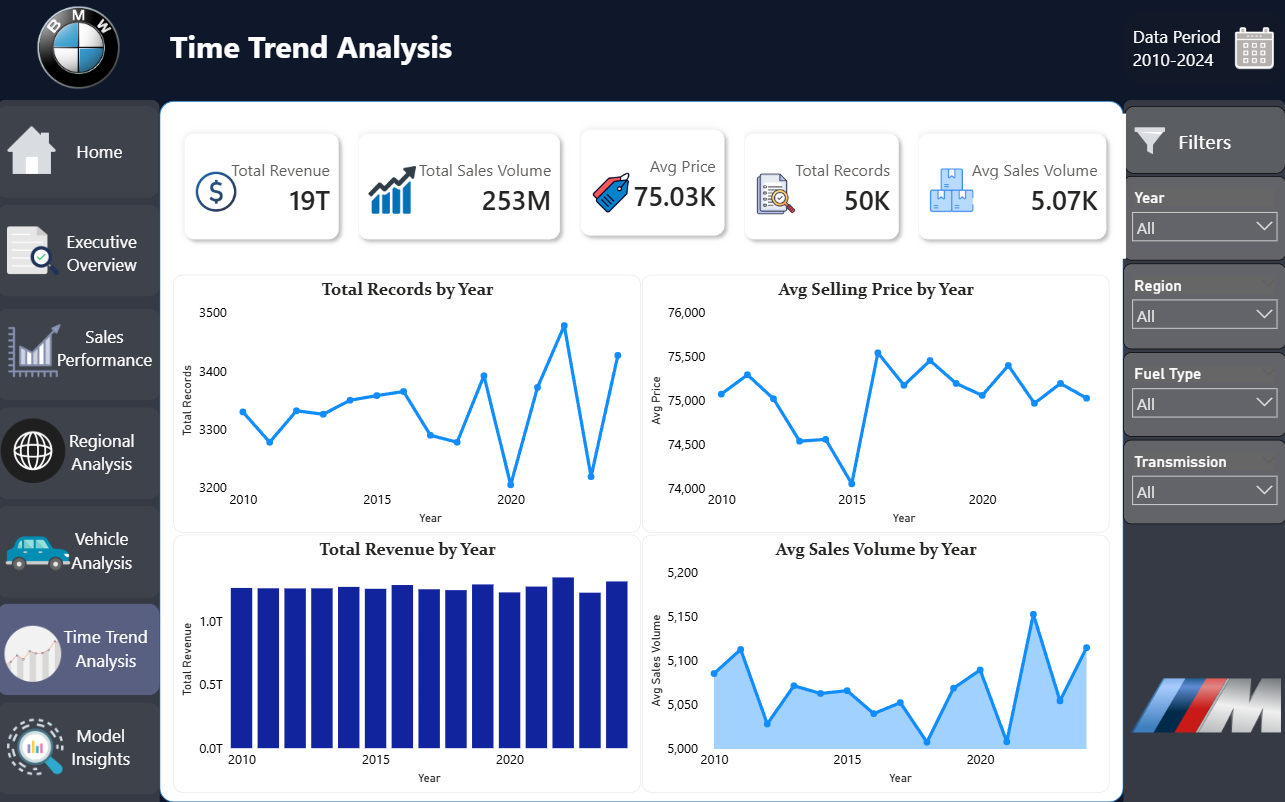

What the dashboard file says about the page in this screenshot:
{"tool":"powerbi","page":{"name":"Time Trend Analysis","canvas":[1600,1000],"ordinal":5},"visuals":[{"type":"shape","box":[1398,18,200,92],"z":0,"group":"g14"},{"type":"shape","box":[1398,128,202,872],"z":0},{"type":"shape","box":[0,258.8,202,114],"z":0,"group":"g7"},{"type":"shape","box":[-0.3,387.9,202,114],"z":0,"group":"g3"},{"type":"shape","box":[0,510,202,114],"z":0,"group":"g4"},{"type":"shape","box":[0,875.8,202,114],"z":0,"group":"g1"},{"type":"image","box":[1528,38,64,52],"z":1000,"group":"g14"},{"type":"shape","box":[202,130,1196,870],"z":1000},{"type":"actionButton","box":[76,510,108,109],"z":1000,"group":"g4"},{"type":"shape","box":[0,128,202,872],"z":2000},{"type":"image","box":[12.8,275.9,65,80],"z":2000,"group":"g7"},{"type":"image","box":[14.2,399,65,80],"z":2000,"group":"g3"},{"type":"image","box":[4.3,524.1,80,80],"z":2000,"group":"g4"},{"type":"image","box":[12.8,890.9,70,80],"z":2000,"group":"g1"},{"type":"actionButton","box":[76,262.8,108,108],"z":2500,"group":"g7"},{"type":"actionButton","box":[70.2,381,127,109],"z":2500,"group":"g3"},{"type":"actionButton","box":[70,875.8,118,110],"z":2500,"group":"g1"},{"type":"cardVisual","fields":{"Data":["fact_bmw_sales.Total Revenue"]},"box":[202.9,141,250,190],"z":3000,"group":"g13"},{"type":"lineChart","fields":{"Category":["fact_bmw_sales.Year"],"Y":["fact_bmw_sales.Total Records"]},"box":[218,346,580,320],"z":3000},{"type":"cardVisual","fields":{"Data":["fact_bmw_sales.Total Sales Volume"]},"box":[418.7,141,309.7,190],"z":4000,"group":"g12"},{"type":"clusteredColumnChart","fields":{"Category":["fact_bmw_sales.Year"],"Y":["fact_bmw_sales.Total Revenue"]},"box":[218,668,580,320],"z":4000},{"type":"cardVisual","fields":{"Data":["fact_bmw_sales.Avg Price"]},"box":[694.3,136.7,237.1,190],"z":5000,"group":"g11"},{"type":"lineChart","title":"Avg Selling Price by Year","fields":{"Category":["fact_bmw_sales.Year"],"Y":["fact_bmw_sales.Avg Price"]},"box":[800,346,580,320],"z":5000},{"type":"cardVisual","fields":{"Data":["fact_bmw_sales.Total Records"]},"box":[897.2,141,250,190],"z":6000,"group":"g10"},{"type":"areaChart","fields":{"Category":["fact_bmw_sales.Year"],"Y":["fact_bmw_sales.Avg Sales Volume"]},"box":[800,668,580,320],"z":6000},{"type":"image","box":[0,0,202,128],"z":7000},{"type":"cardVisual","fields":{"Data":["fact_bmw_sales.Avg Sales Volume"]},"box":[1113,141,292.7,190],"z":7000,"group":"g9"},{"type":"group","id":"g1","title":"Group 11","box":[0,875.8,202.9,113.2],"z":8000},{"type":"group","id":"g2","title":"Group 12","box":[0,754.4,202.9,113.2],"z":9000},{"type":"group","id":"g3","title":"Group 10","box":[-0.3,381,202,120.9],"z":10000},{"type":"group","id":"g4","title":"Group 14","box":[0,510,202,114],"z":11000},{"type":"group","id":"g5","title":"Group 13","box":[-0.8,136.6,202,114],"z":12000},{"type":"group","id":"g6","title":"Group 9","box":[0,632.2,202,114],"z":13000},{"type":"group","id":"g7","title":"Group 15","box":[0,258.8,202,114],"z":14000},{"type":"slicer","fields":{"Values":["fact_bmw_sales.Year"]},"box":[1398,224,202,105],"z":15000},{"type":"slicer","fields":{"Values":["fact_bmw_sales.Transmission"]},"box":[1398,550,202,105],"z":16000},{"type":"image","box":[459.3,211.5,61.9,59.4],"z":17000,"group":"g12"},{"type":"slicer","fields":{"Values":["fact_bmw_sales.Region"]},"box":[1398,332.4,202,106],"z":17000},{"type":"textbox","box":[1399.2,136.7,200,84],"z":18000,"group":"g8"},{"type":"slicer","fields":{"Values":["fact_bmw_sales.Fuel_Type"]},"box":[1398,441.7,202,105],"z":18000},{"type":"image","box":[1405.6,153.8,50,50],"z":19000,"group":"g8"},{"type":"image","box":[1406,828,186,104],"z":19000},{"type":"group","id":"g8","title":"Group 16","box":[1399.2,136.7,200,84],"z":20000},{"type":"image","box":[245.6,213.6,50,57.7],"z":20000,"group":"g13"},{"type":"shape","box":[0,632.2,202,114],"z":20007,"group":"g6"},{"type":"shape","box":[0,754.4,202,114],"z":20008,"group":"g2"},{"type":"image","box":[8.5,767.3,70,100],"z":20018,"group":"g2"},{"type":"image","box":[10.7,651.2,80,80],"z":20019,"group":"g6"},{"type":"actionButton","box":[76,754.4,118,110],"z":20518,"group":"g2"},{"type":"actionButton","box":[76,632.2,108,109],"z":20519,"group":"g6"},{"type":"group","id":"g9","title":"Group 1","box":[1113,141,292.7,190],"z":21000},{"type":"image","box":[736.1,214.2,50,60],"z":21000,"group":"g11"},{"type":"group","id":"g10","title":"Group 2","box":[897.2,141,250,190],"z":22000},{"type":"group","id":"g11","title":"Group 3","box":[694.3,136.7,237.1,190],"z":23000},{"type":"group","id":"g12","title":"Group 4","box":[418.7,141,309.7,190],"z":24000},{"type":"shape","box":[-0.8,136.6,202,114],"z":25000,"group":"g5"},{"type":"group","id":"g13","title":"Group 5","box":[202.9,141,250,190],"z":25000},{"type":"textbox","box":[210,32,364,70],"z":26000},{"type":"group","id":"g14","title":"Group 17","box":[1398,18,200,92],"z":27000},{"type":"image","box":[4.3,151.7,80,80],"z":27000,"group":"g5"},{"type":"actionButton","box":[69.2,136.6,118,110],"z":27500,"group":"g5"},{"type":"image","box":[940.3,216,50,60],"z":29000,"group":"g10"},{"type":"image","box":[1157.1,211.5,55.1,59.4],"z":30000,"group":"g9"}]}

Visuals, with their boxes in screenshot pixels (x1, y1, x2, y2), scaled from the page's 1600x1000 canvas onto the 1285x802 screenshot:
shape: 1123,14,1283,88
shape: 1123,103,1284,801
shape: 0,208,162,299
shape: 0,311,162,403
shape: 0,409,162,500
shape: 0,702,162,794
image: 1227,30,1279,72
shape: 162,104,1123,801
actionButton: 61,409,148,496
shape: 0,103,162,801
image: 10,221,62,285
image: 11,320,64,384
image: 3,420,68,484
image: 10,715,66,779
actionButton: 61,211,148,297
actionButton: 56,306,158,393
actionButton: 56,702,151,791
cardVisual - fact_bmw_sales.Total Revenue: 163,113,364,265
lineChart - fact_bmw_sales.Year x fact_bmw_sales.Total Records: 175,277,641,534
cardVisual - fact_bmw_sales.Total Sales Volume: 336,113,585,265
clusteredColumnChart - fact_bmw_sales.Year x fact_bmw_sales.Total Revenue: 175,536,641,792
cardVisual - fact_bmw_sales.Avg Price: 558,110,748,262
"Avg Selling Price by Year" lineChart: 642,277,1108,534
cardVisual - fact_bmw_sales.Total Records: 721,113,921,265
areaChart - fact_bmw_sales.Year x fact_bmw_sales.Avg Sales Volume: 642,536,1108,792
image: 0,0,162,103
cardVisual - fact_bmw_sales.Avg Sales Volume: 894,113,1129,265
"Group 11" group: 0,702,163,793
"Group 12" group: 0,605,163,696
"Group 10" group: 0,306,162,403
"Group 14" group: 0,409,162,500
"Group 13" group: 0,110,162,201
"Group 9" group: 0,507,162,598
"Group 15" group: 0,208,162,299
slicer - fact_bmw_sales.Year: 1123,180,1284,264
slicer - fact_bmw_sales.Transmission: 1123,441,1284,525
image: 369,170,419,217
slicer - fact_bmw_sales.Region: 1123,267,1284,352
textbox: 1124,110,1284,177
slicer - fact_bmw_sales.Fuel_Type: 1123,354,1284,438
image: 1129,123,1169,163
image: 1129,664,1279,747
"Group 16" group: 1124,110,1284,177
image: 197,171,237,218
shape: 0,507,162,598
shape: 0,605,162,696
image: 7,615,63,696
image: 9,522,73,586
actionButton: 61,605,156,693
actionButton: 61,507,148,594
"Group 1" group: 894,113,1129,265
image: 591,172,631,220
"Group 2" group: 721,113,921,265
"Group 3" group: 558,110,748,262
"Group 4" group: 336,113,585,265
shape: 0,110,162,201
"Group 5" group: 163,113,364,265
textbox: 169,26,461,82
"Group 17" group: 1123,14,1283,88
image: 3,122,68,186
actionButton: 56,110,150,198
image: 755,173,795,221
image: 929,170,974,217
